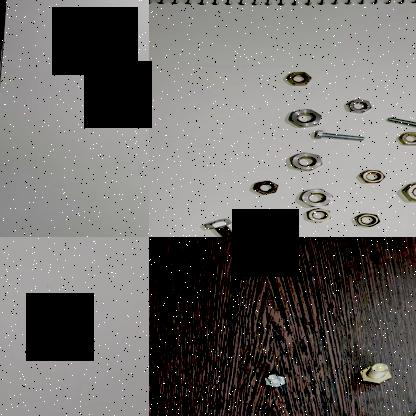Bolts: (346, 360, 398, 386), (200, 214, 247, 237), (311, 128, 368, 142), (385, 110, 416, 131), (260, 368, 288, 390)
NUTS: (280, 104, 328, 128), (350, 161, 392, 188), (274, 67, 321, 88), (294, 184, 335, 208), (284, 151, 326, 171), (348, 209, 384, 228), (343, 95, 377, 114), (250, 176, 280, 196), (397, 177, 416, 206), (304, 207, 336, 223), (394, 128, 416, 146)
